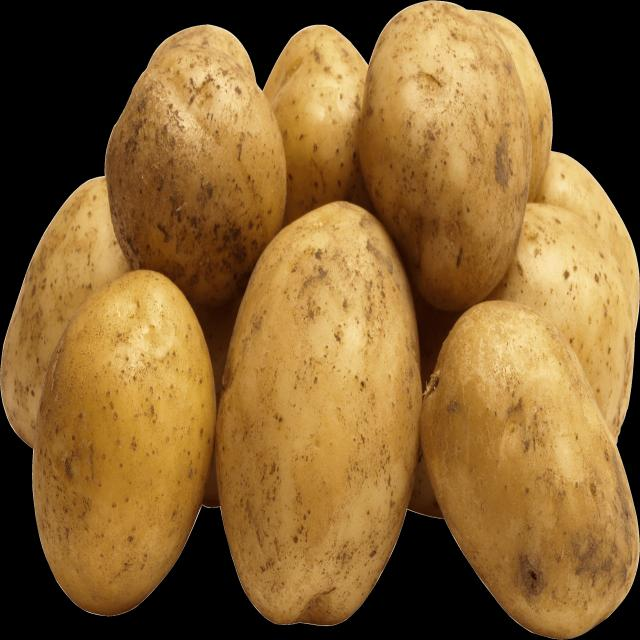potato: (224, 205, 424, 630), (406, 285, 640, 640), (343, 1, 545, 308), (36, 279, 212, 618), (104, 22, 287, 284), (3, 175, 154, 452), (501, 176, 638, 450), (259, 16, 390, 219)
